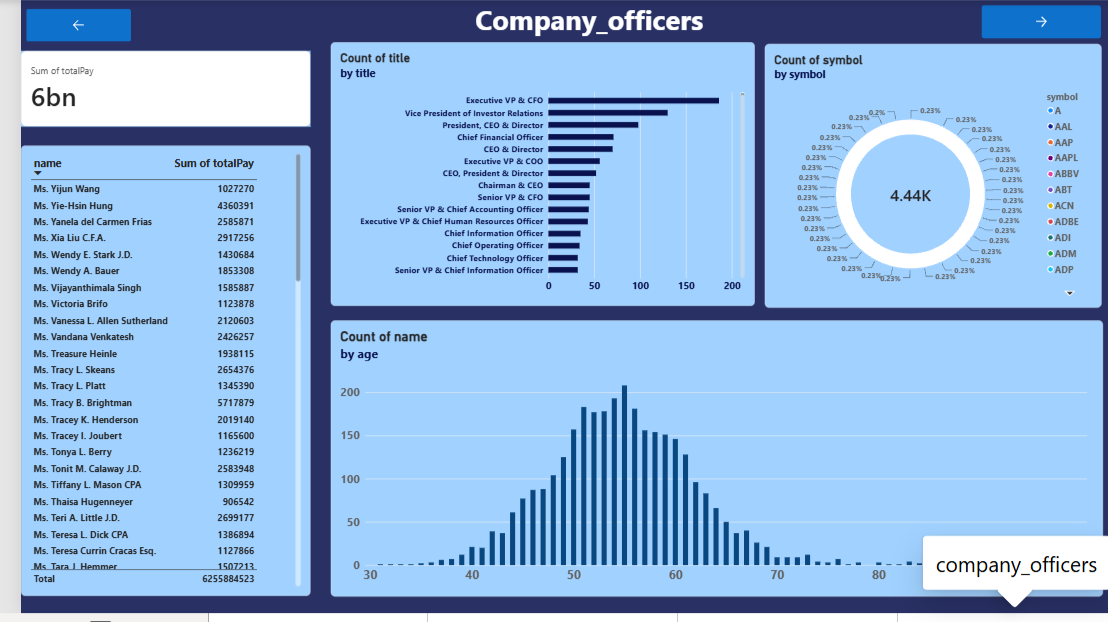

This screenshot's page, from the dashboard's own definition file:
{"tool":"powerbi","page":{"name":"company_officers","canvas":[1920,1080],"ordinal":6},"visuals":[{"type":"columnChart","fields":{"Category":["06_company_officers.age"],"Y":["CountNonNull(06_company_officers.name)"]},"box":[544.7,564.6,1360.9,486.8],"z":0},{"type":"tableEx","fields":{"Values":["06_company_officers.name","Sum(06_company_officers.totalPay)"]},"box":[0,257,510.3,794.4],"z":1000},{"type":"cardVisual","fields":{"Data":["Sum(06_company_officers.totalPay)"]},"box":[0,90.5,510.3,133.9],"z":2000},{"type":"barChart","fields":{"Category":["06_company_officers.title"],"Y":["CountNonNull(06_company_officers.title)"]},"box":[544.7,74.2,747.4,465.1],"z":3000},{"type":"donutChart","fields":{"Category":["06_company_officers.symbol"],"Y":["CountNonNull(06_company_officers.symbol)"]},"box":[1312,76,593.6,465.1],"z":4000},{"type":"textbox","box":[99.5,0,1806,74.2],"z":5000},{"type":"actionButton","box":[8,16,184.6,57.9],"z":6000},{"type":"actionButton","box":[1694,10,210,58],"z":7000}]}

Visuals, with their boxes in screenshot pixels (x1, y1, x2, y2), scaled from the page's 1920x1080 canvas onto the 1108x622 screenshot:
columnChart - 06_company_officers.age x CountNonNull(06_company_officers.name): <region>314, 325, 1100, 606</region>
tableEx - 06_company_officers.name x Sum(06_company_officers.totalPay): <region>0, 148, 294, 606</region>
cardVisual - Sum(06_company_officers.totalPay): <region>0, 52, 294, 129</region>
barChart - 06_company_officers.title x CountNonNull(06_company_officers.title): <region>314, 43, 746, 311</region>
donutChart - 06_company_officers.symbol x CountNonNull(06_company_officers.symbol): <region>757, 44, 1100, 312</region>
textbox: <region>57, 0, 1100, 43</region>
actionButton: <region>5, 9, 111, 43</region>
actionButton: <region>978, 6, 1099, 39</region>
